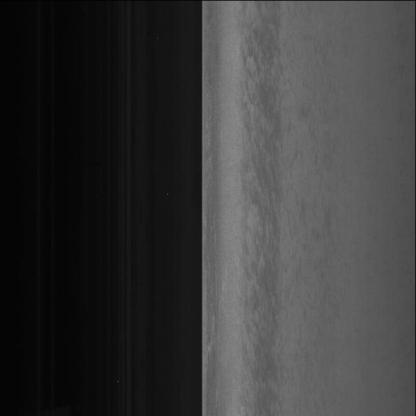silk_spot: (231, 180, 283, 287)
